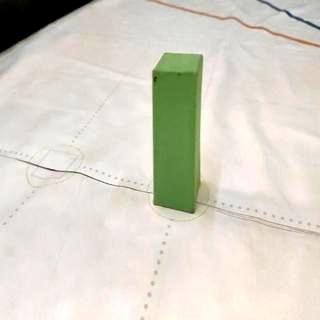greenbox: (152, 50, 205, 216)
